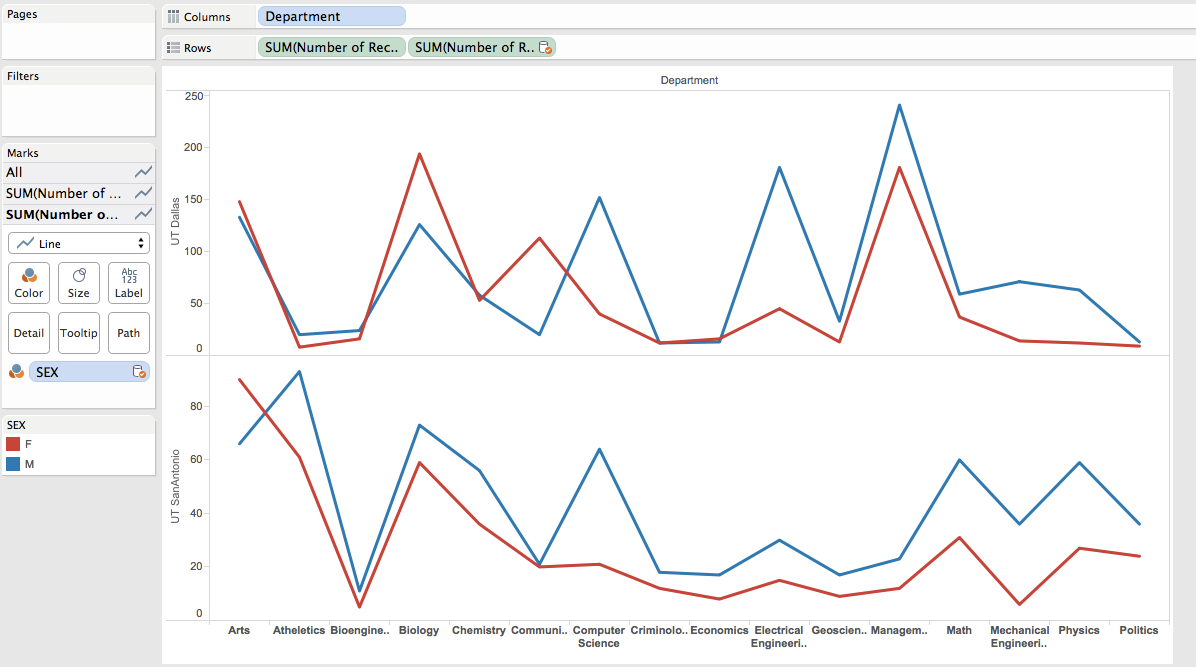

Layout of this report page (visuals, bound fields, positions):
{"tool":"tableau","page":{"name":"Dashboard 2","canvas":[1200,830],"ordinal":0},"visuals":[{"type":"worksheet","title":"Sheet 4","mark":"Automatic","box":[0,0,1040,830]},{"type":"legend","title":"Sheet 4","param":"[oracle.42117.781763240700].[none:DEPARTMENT:nk]","box":[1040,0,160,347]}]}

Visuals, with their boxes on the page's 1200x830 design canvas (x1, y1, x2, y2). These are canvas units, not pixel positions in the 1196x667 screenshot, which may show the page scaled, cropped or inside an application window:
"Sheet 4" worksheet: [left=0, top=0, right=1040, bottom=830]
"Sheet 4" legend: [left=1040, top=0, right=1200, bottom=347]
